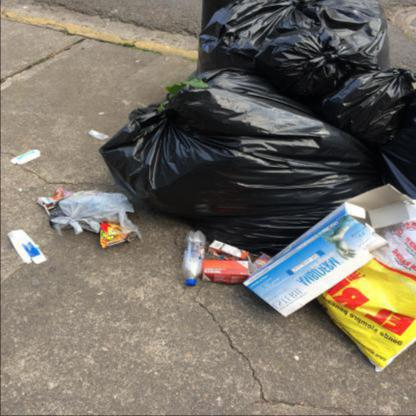Bottle: (185, 280, 196, 286)
Bottle cap: (182, 231, 206, 287)
Carton: (243, 184, 415, 318), (202, 260, 258, 284), (8, 230, 46, 264), (38, 186, 74, 210), (209, 240, 250, 261), (10, 150, 40, 165), (252, 252, 272, 269)
Plastic bag - wrapper: (98, 69, 386, 255), (316, 199, 416, 371), (197, 0, 387, 76), (252, 27, 378, 103), (318, 66, 416, 146), (48, 191, 138, 237), (100, 221, 138, 249), (87, 130, 109, 142)
Pop tab: (98, 113, 104, 115)
Straw: (44, 204, 50, 216), (247, 254, 251, 262)
